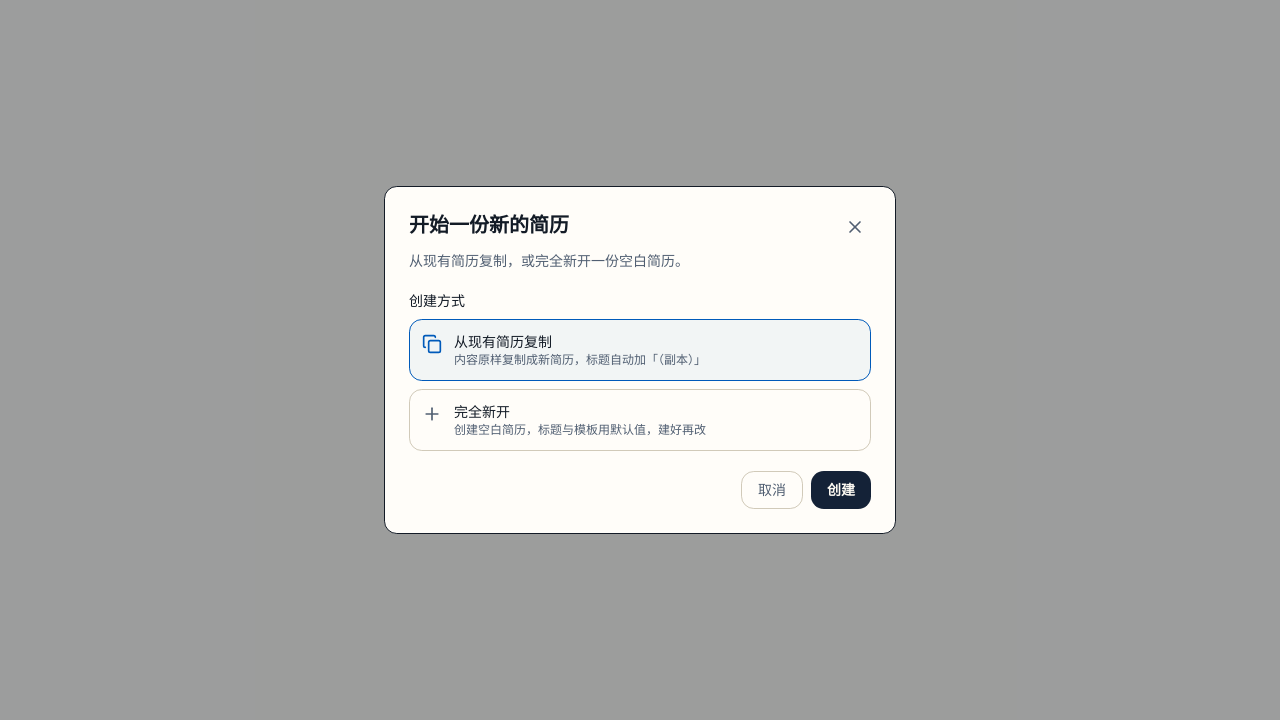
Test case: 创建简历 Modal：选择层 Esc 关闭 › 从创建弹窗进入选择层后按 Esc 可关闭，回到创建弹窗
Click the button "创建" at (841, 490), box [811,471,871,509]
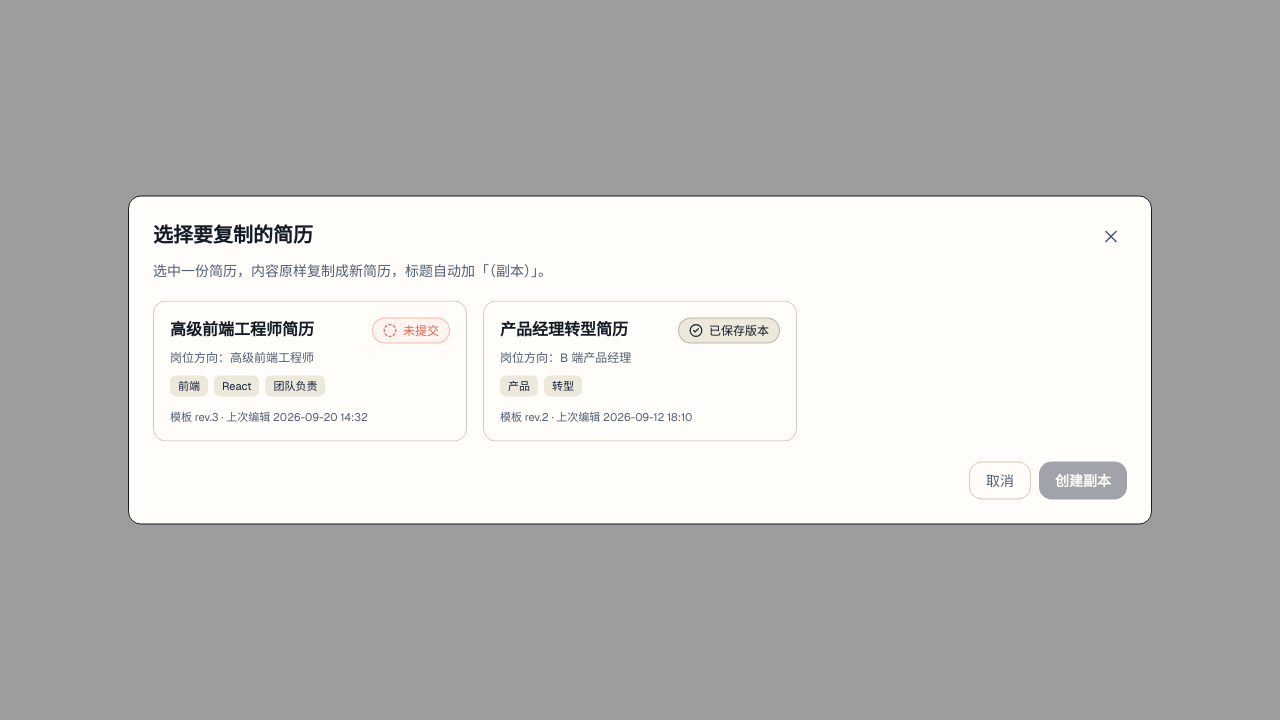
Check: the dialog "选择要复制的简历" is shown, box [128,196,1152,524]
Press Escape
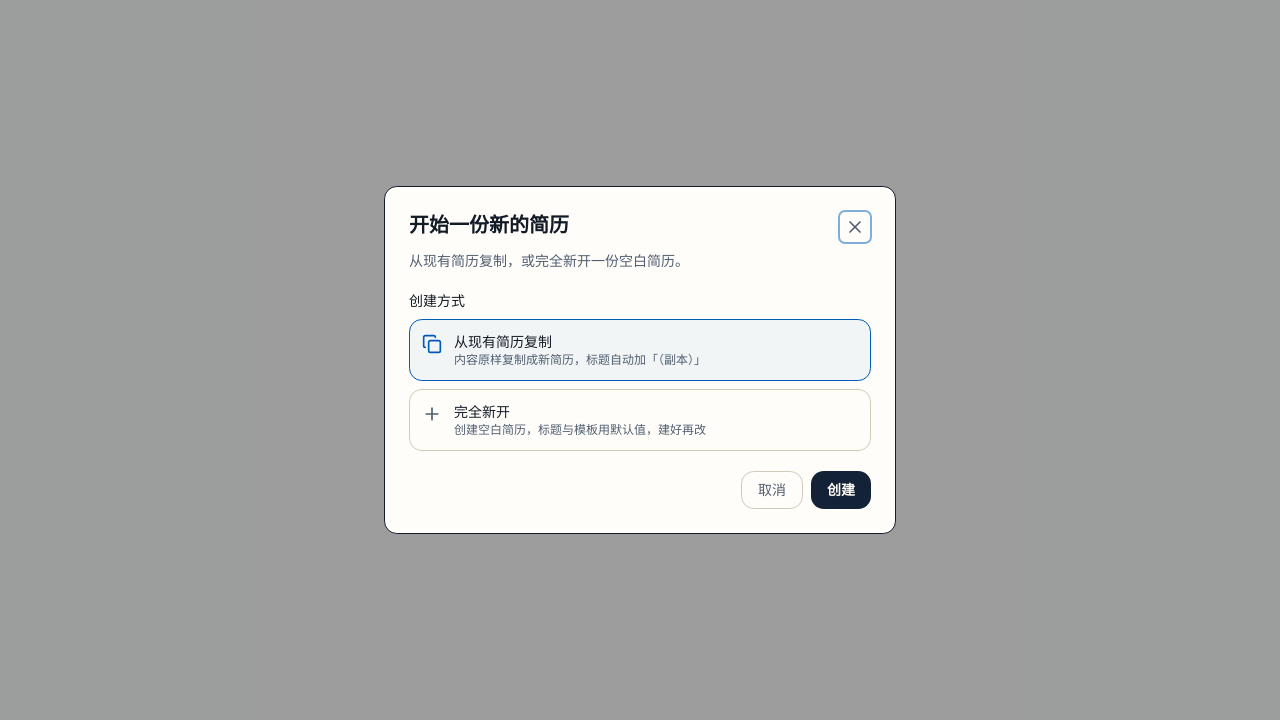
Check: the heading "选择要复制的简历" is gone
Check: the dialog "开始一份新的简历" is shown, box [384,186,896,534]
